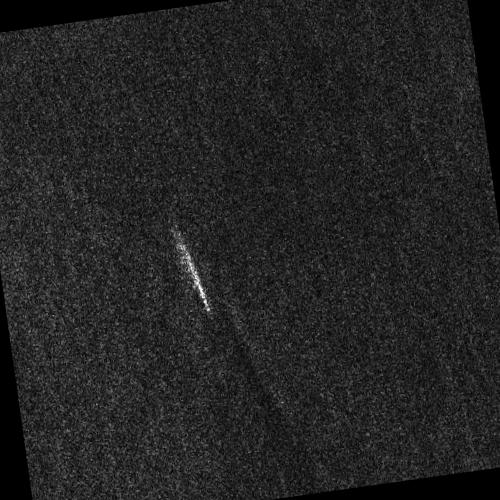ship: (184, 250, 210, 312)
